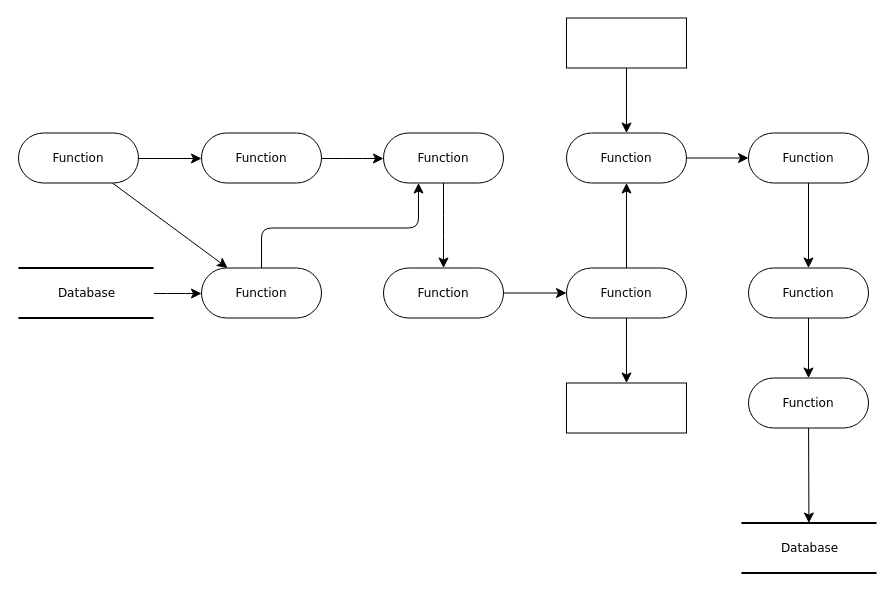
Image size: 894x591. Some labels were removed from this diagram. The box of each missing label's shape, as (x1, y1, x2, y2) in pixels:
Input: (566, 17, 686, 68)
Output: (566, 382, 686, 433)
